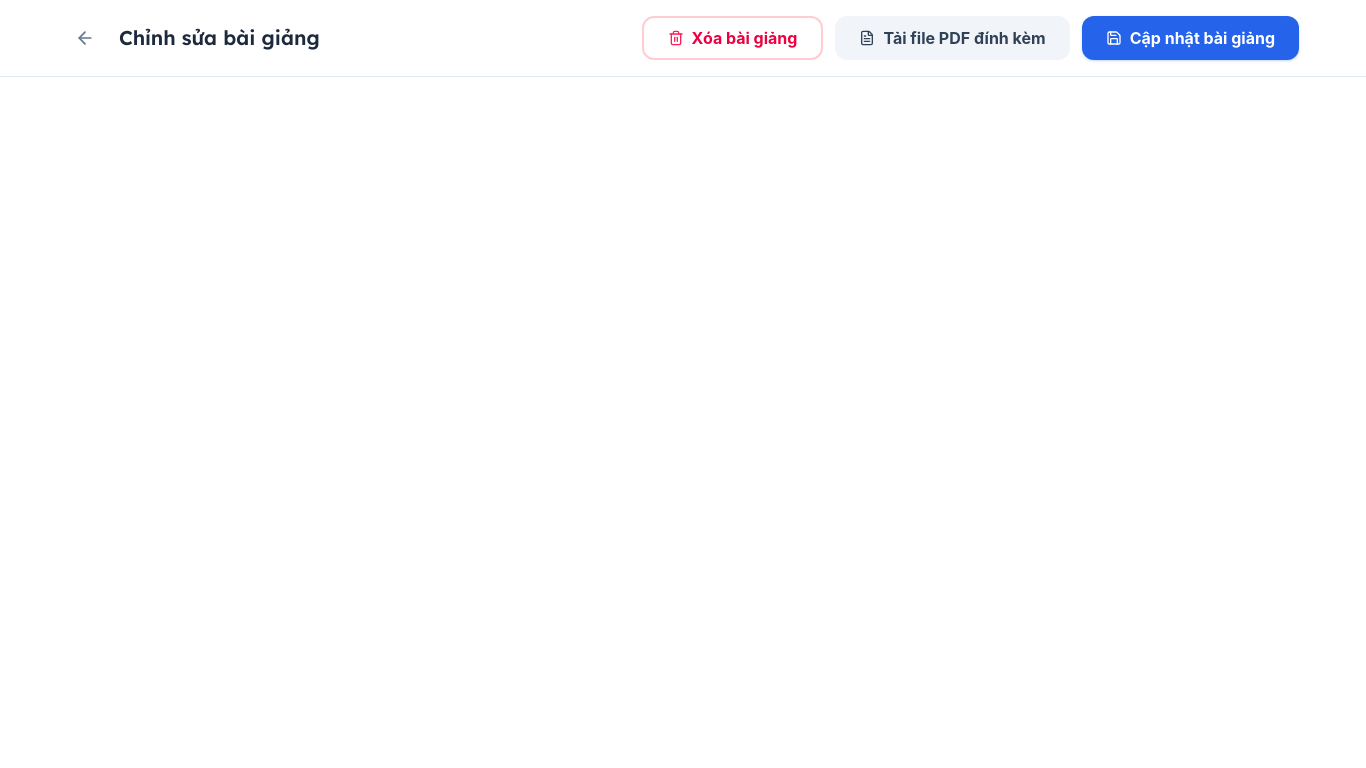
LectureCreatorHeader › opens confirm modal when delete button is clicked and cancels
Click the button "Xóa bài giảng".
click(732, 38)  # box top-left (642, 16), bottom-right (823, 60)
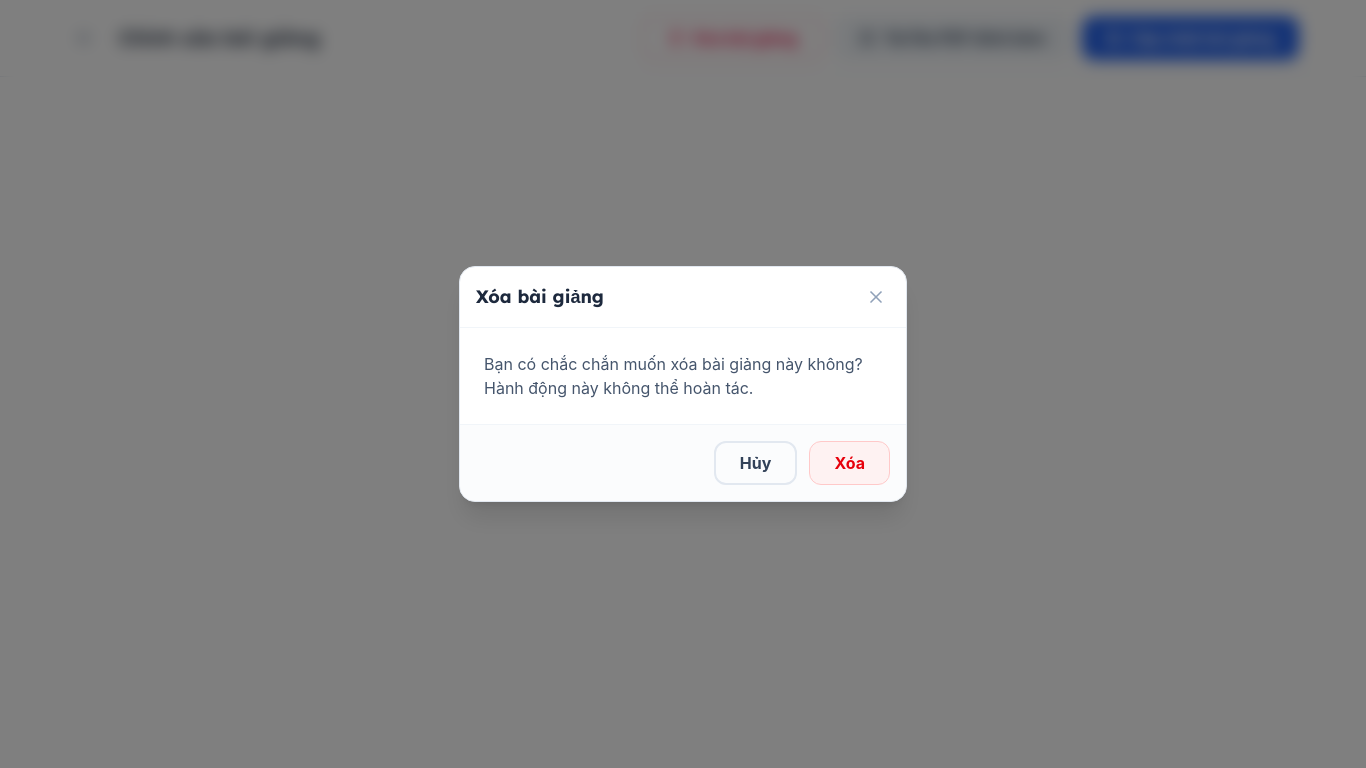
Expected: the text "Bạn có chắc chắn muốn xóa bài giảng này không? Hành động này không thể hoàn tác." is shown, top-left (484, 352), bottom-right (882, 400)
Click the button "Hủy".
click(756, 463)  # box top-left (714, 441), bottom-right (797, 485)
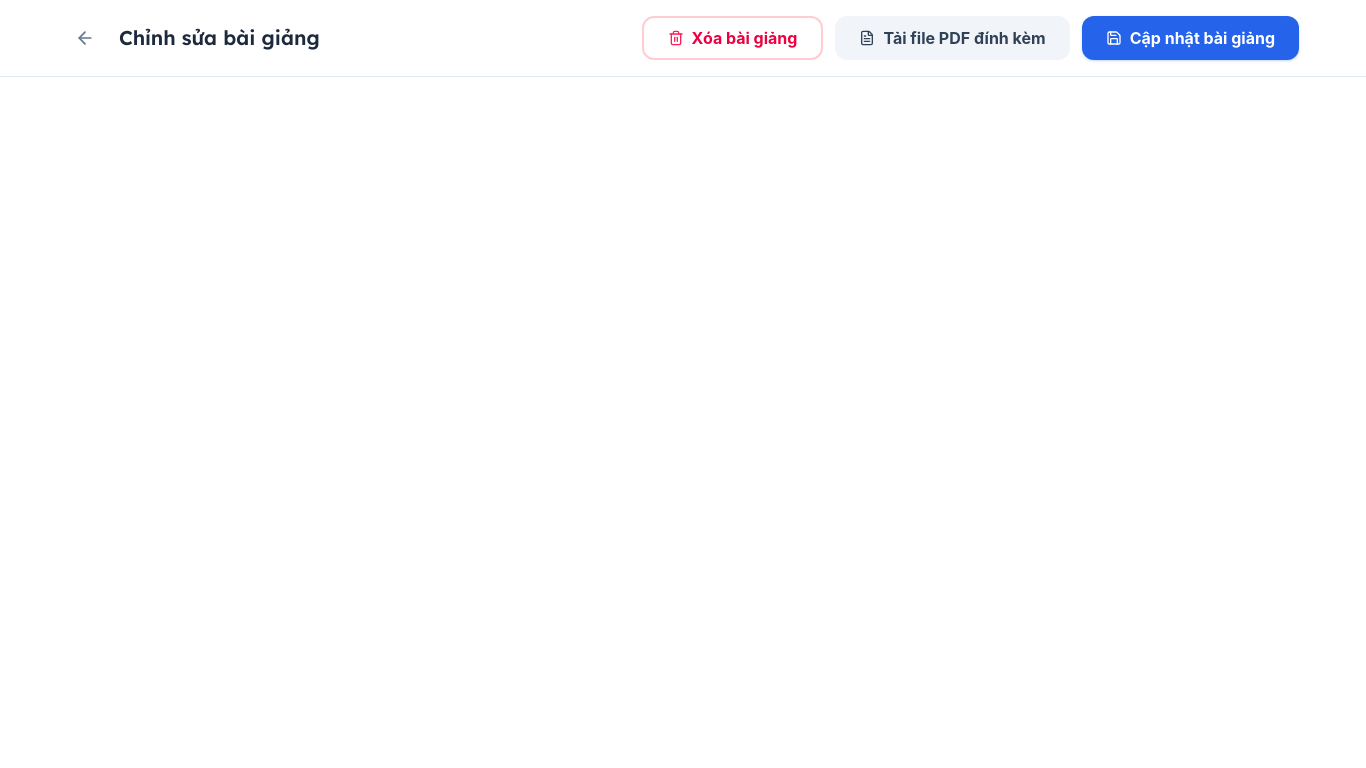
Expected: the text "Bạn có chắc chắn muốn xóa bài giảng này không? Hành động này không thể hoàn tác." is gone
